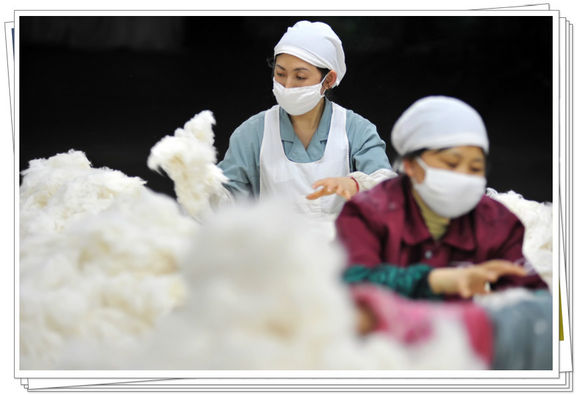face_mask: (422, 139, 486, 220), (273, 53, 322, 115)
